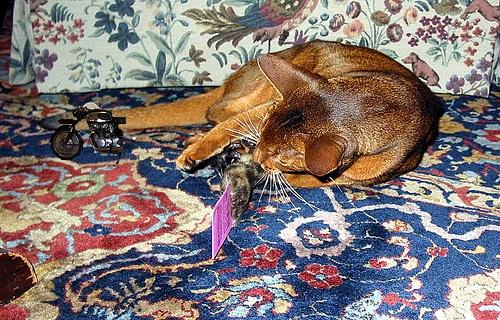tampered: (51, 103, 126, 164)
